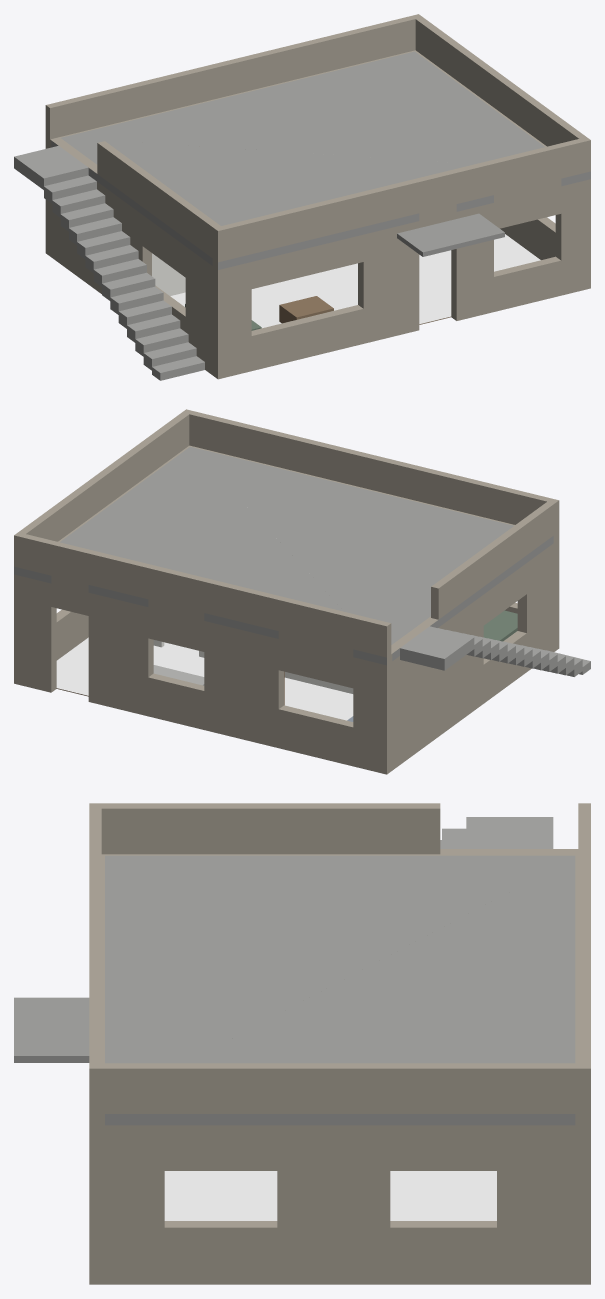
The model's file is bungalow.panes-v1.lod0.glb.
3 views of the same model, one above another, from view 1: azimuth 30°, elevation 25°; view 2: azimuth 150°, elevation 25°; view 3: azimuth 270°, elevation 25° (orthographic). The views are drawn at different scales.
Parts seen in each view (by area): view 1: bungalow; view 2: bungalow; view 3: bungalow.
Boxes of the visible parts, bbox=[...] form: bungalow: bbox=[14, 14, 590, 380]; bungalow: bbox=[14, 409, 590, 774]; bungalow: bbox=[14, 803, 590, 1284].
Size of the model in its own units: 11.2 by 3.8 by 9.2.
